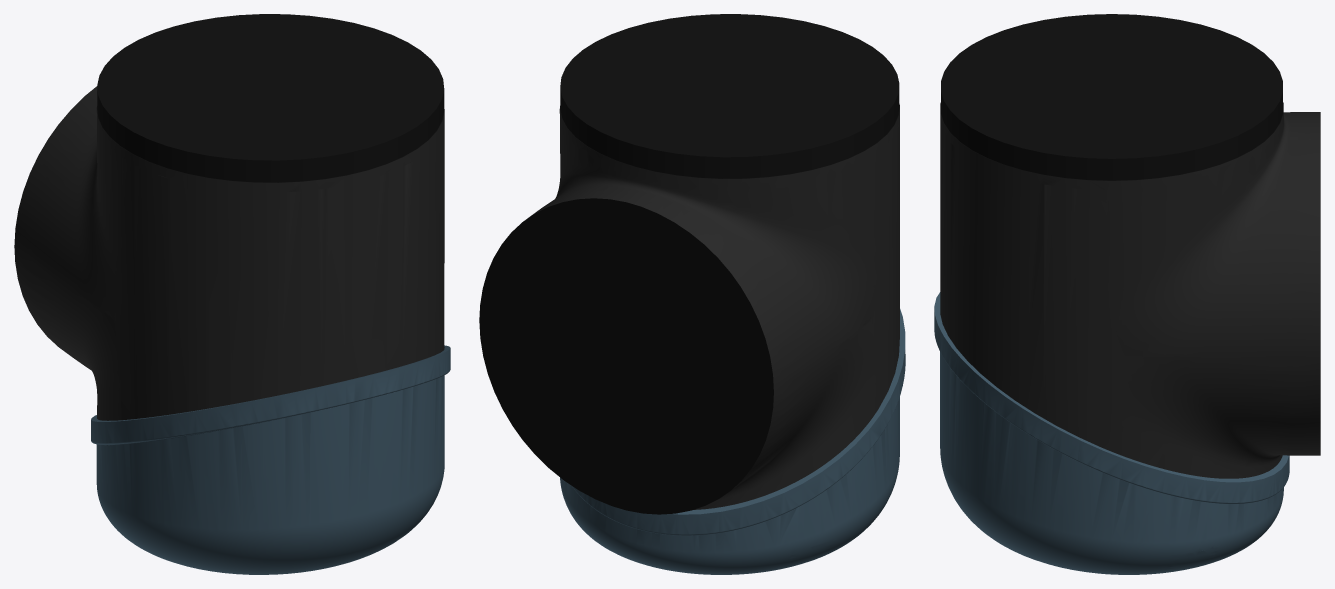
Rendered from wrist2.obj.
The picture shows the model from 3 angles, left to right: view 1: azimuth 30°, elevation 25°; view 2: azimuth 150°, elevation 25°; view 3: azimuth 270°, elevation 25°; orthographic projection. The views are drawn at different scales.
Parts seen in each view (by area): view 1: Actor0, Actor1; view 2: Actor0, Actor1; view 3: Actor0, Actor1.
Part boxes in pixels (x1,y1,x2,y2): Actor0: [14, 14, 444, 420]; Actor1: [91, 345, 450, 574]; Actor0: [479, 14, 899, 514]; Actor1: [560, 309, 905, 574]; Actor0: [940, 14, 1320, 478]; Actor1: [934, 292, 1289, 574].
Bounding box in the file's own units: 0.0775 × 0.1047 × 0.0842.
